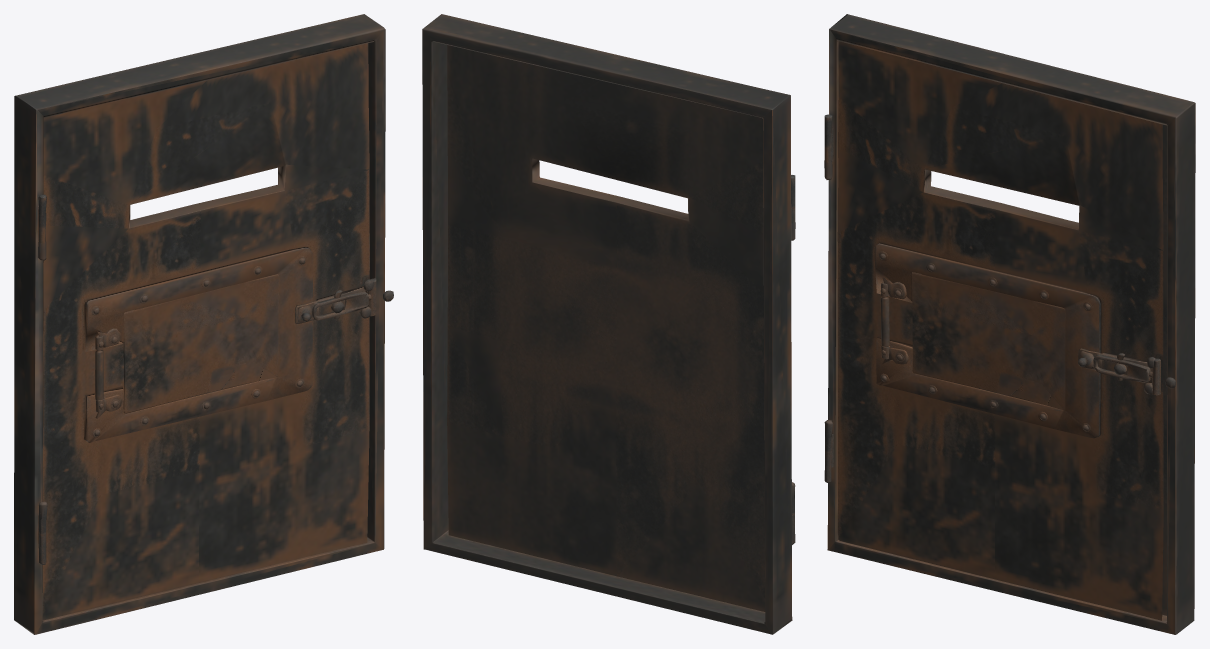
The model's file is Meshy_AI_cell_door_with_a_slot_0904015439_texture.glb.
The picture shows the model from 3 angles, left to right: view 1: azimuth 30°, elevation 25°; view 2: azimuth 150°, elevation 25°; view 3: azimuth 330°, elevation 25°; orthographic projection.
Visible parts, largest first — view 1: mesh_node; view 2: mesh_node; view 3: mesh_node.
Boxes of the visible parts, x1,y1,x2,y2 form: mesh_node: (14,14,393,634); mesh_node: (422,14,795,634); mesh_node: (824,14,1195,634).
Size of the model in its own units: 0.709 by 1 by 0.1038.
1 material, 1 textured.
